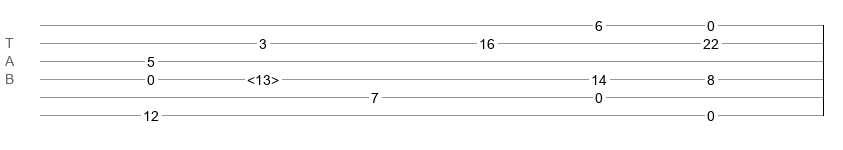0: (147, 72, 155, 82), (595, 90, 603, 100), (707, 18, 715, 28), (707, 108, 715, 118)
12: (143, 108, 159, 118)
14: (591, 72, 607, 82)
16: (479, 36, 495, 46)
22: (703, 36, 719, 46)
3: (259, 36, 267, 46)
5: (147, 54, 155, 64)
6: (595, 18, 603, 28)
7: (371, 90, 379, 100)
8: (707, 72, 715, 82)
harmonic: (247, 72, 279, 82)
